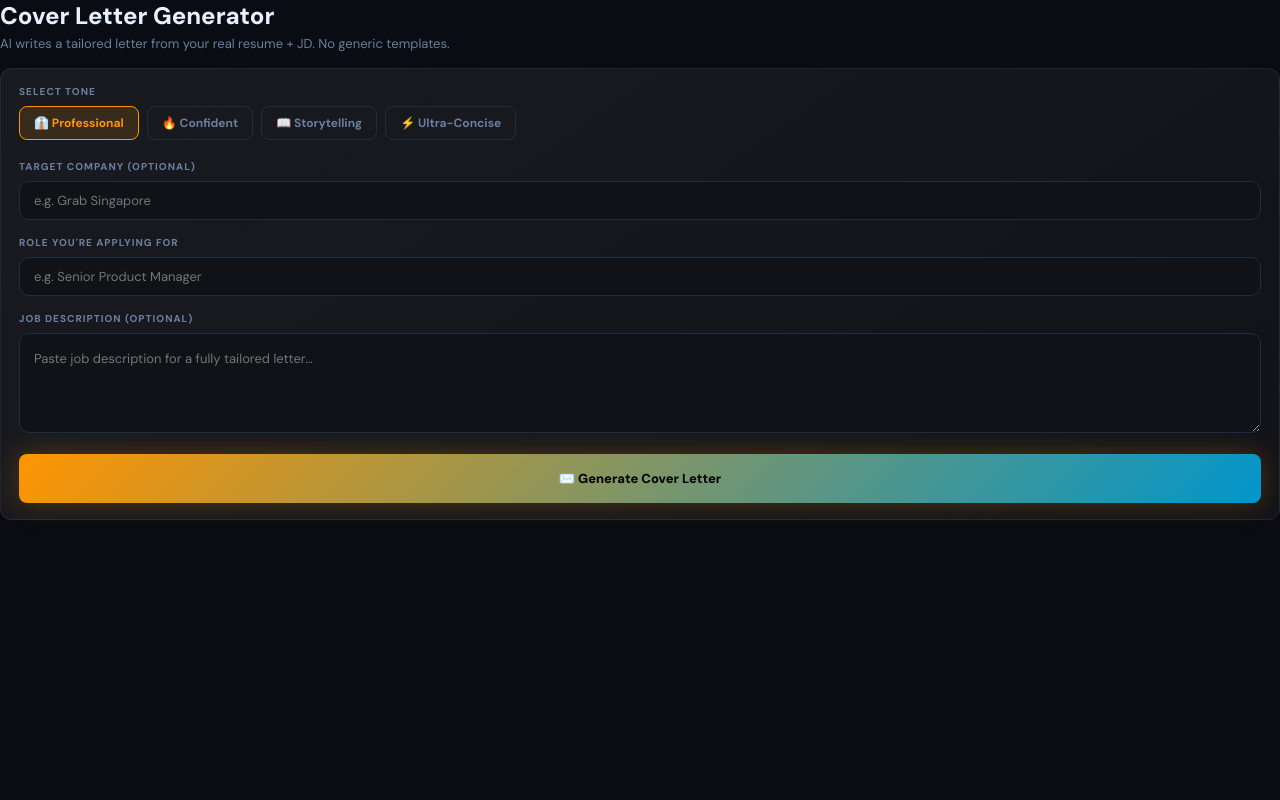
Scenario: CoverLetterGen › uses the company the user typed when the AI cannot find one, and tells the model about it
The width and height of the screenshot is (1280, 800).
Type "PM" into the field named "Role".
click(640, 276); type("PM")  # box [19, 257, 1261, 296]
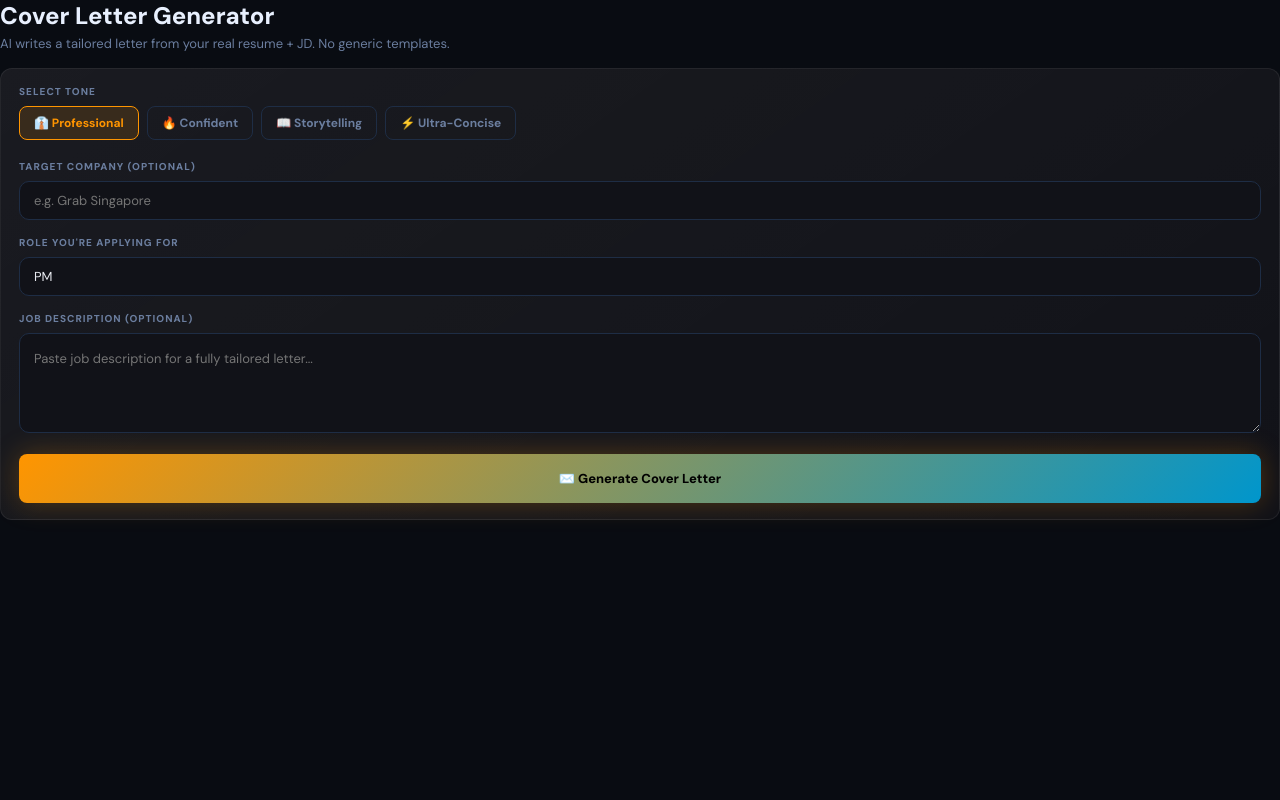
Type "Stripe" into the field named "Target company".
click(640, 200); type("Stripe")  # box [19, 181, 1261, 220]
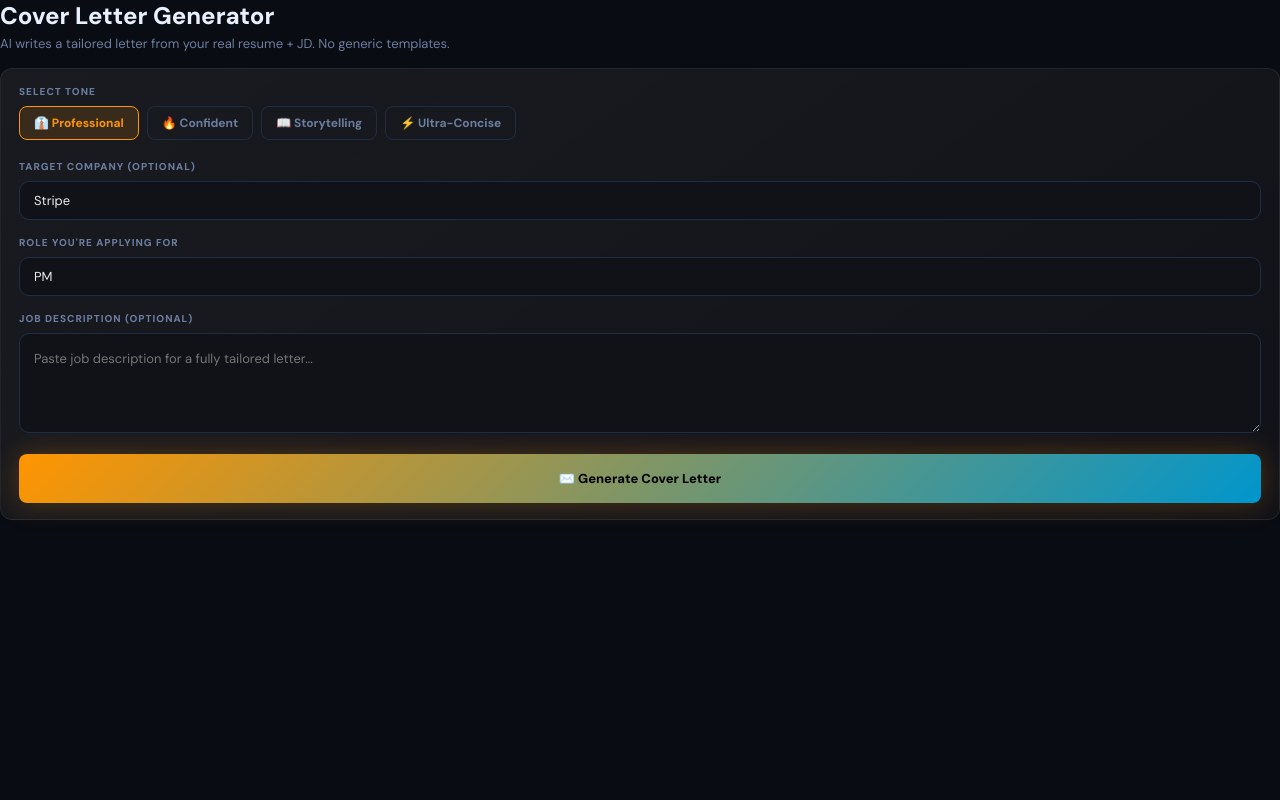
Click the button "✉️ Generate Cover Letter".
click(640, 478)  # box [19, 454, 1261, 503]
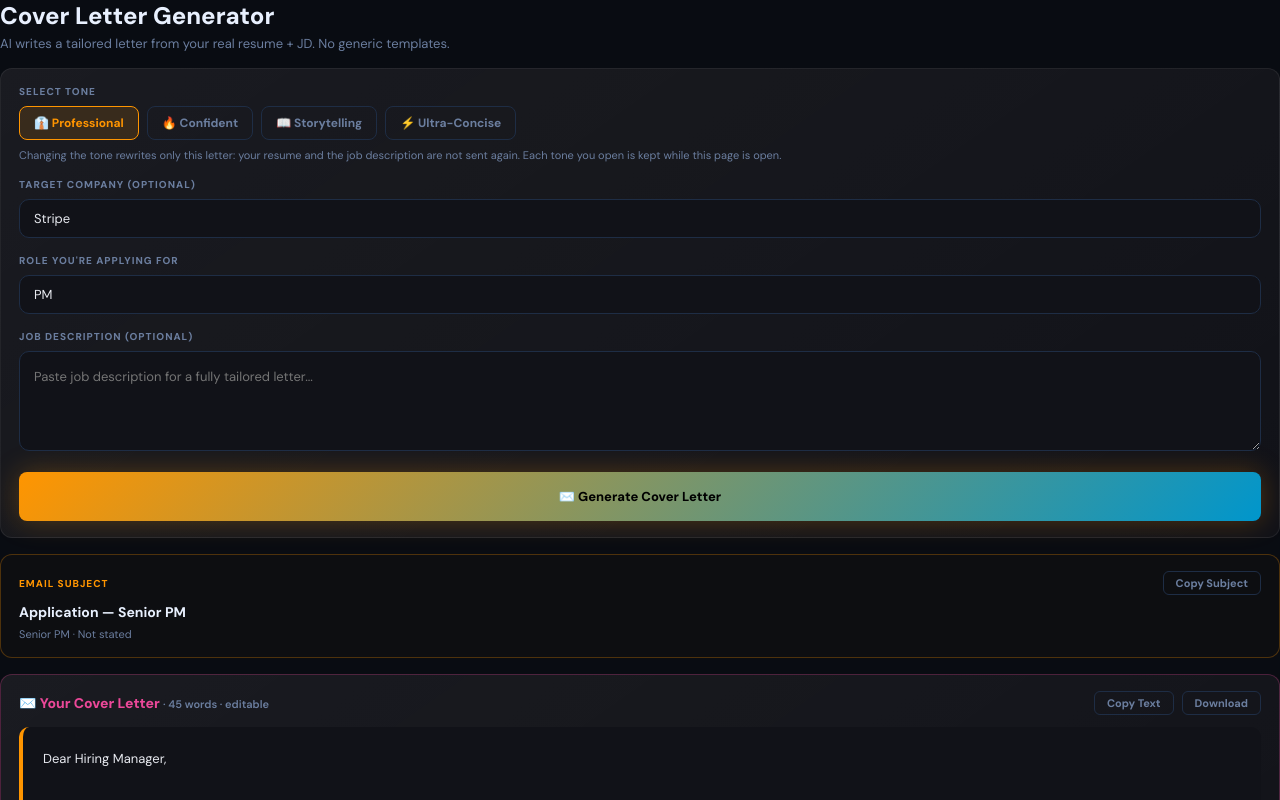
Expected: the text "Application — Senior PM" is shown, [19, 603, 186, 621]
